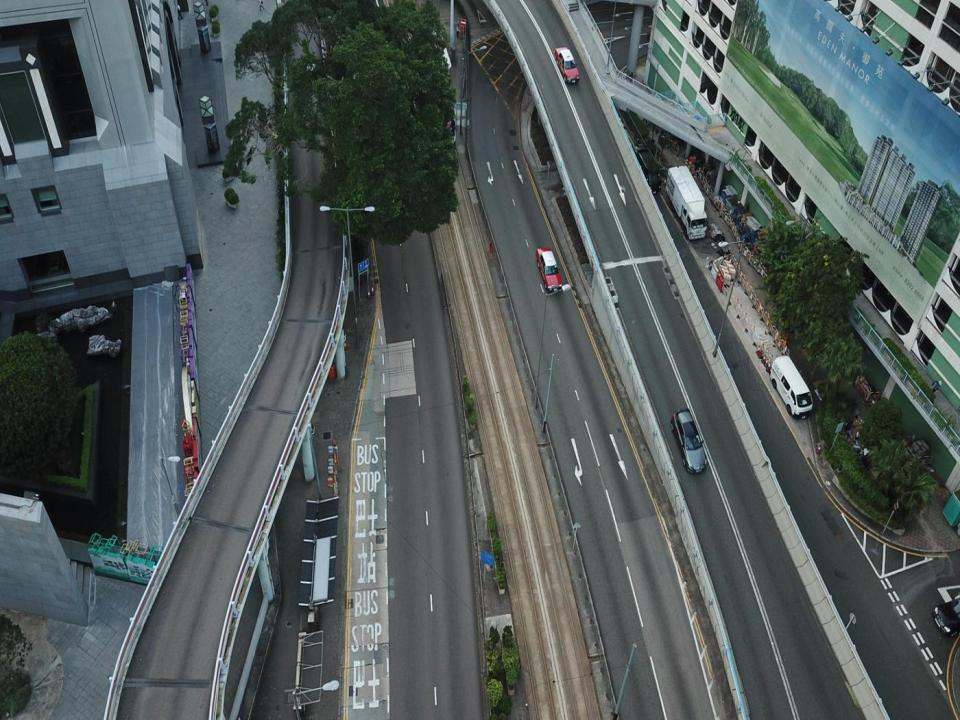bus: (376, 1, 456, 149)
car: (672, 409, 707, 472), (536, 245, 561, 292), (555, 44, 578, 85)
truck: (666, 164, 708, 240)
van: (771, 357, 812, 417), (636, 150, 661, 194)
